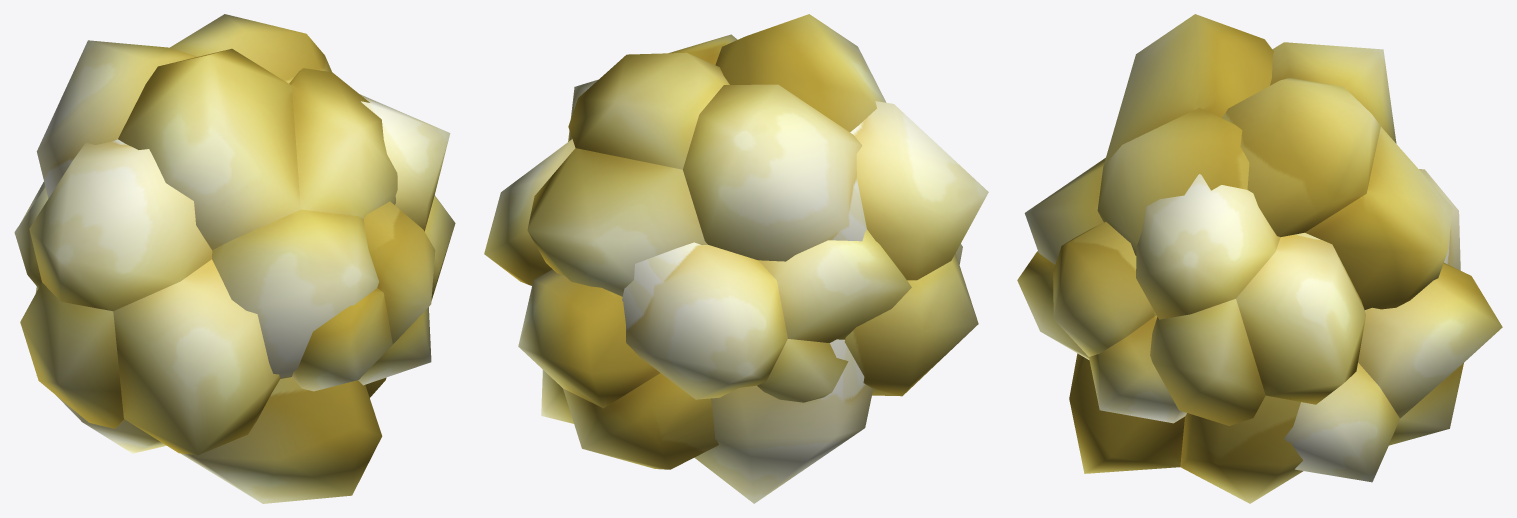
Rendered from fant_popcorn.obj.
3 renders of one model, left to right at view 1: azimuth 30°, elevation 25°; view 2: azimuth 150°, elevation 25°; view 3: azimuth 270°, elevation 25°, orthographic.
Parts seen in each view (by area): view 1: fant_popcorn_Mesh.001; view 2: fant_popcorn_Mesh.001; view 3: fant_popcorn_Mesh.001.
Boxes of the visible parts, x1=… form: fant_popcorn_Mesh.001: x1=14, y1=14, x2=455, y2=503; fant_popcorn_Mesh.001: x1=484, y1=14, x2=988, y2=503; fant_popcorn_Mesh.001: x1=1017, y1=14, x2=1502, y2=503.
Size of the model in its own units: 2 by 2 by 2.
